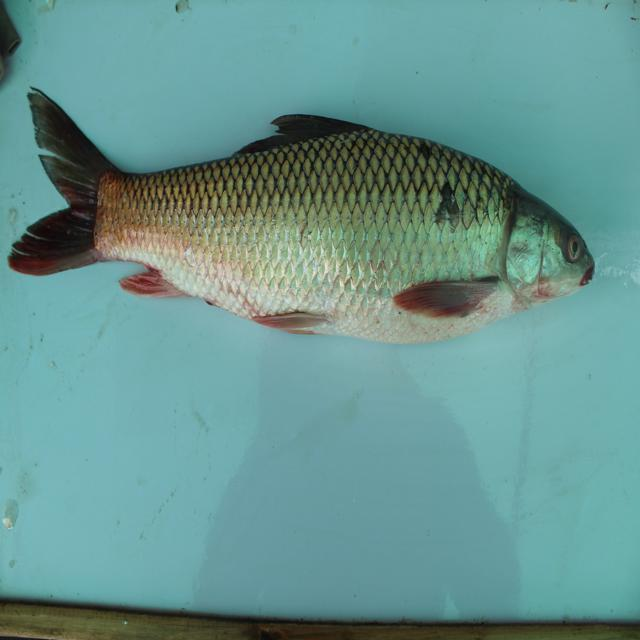Mori: (15, 71, 603, 359)
